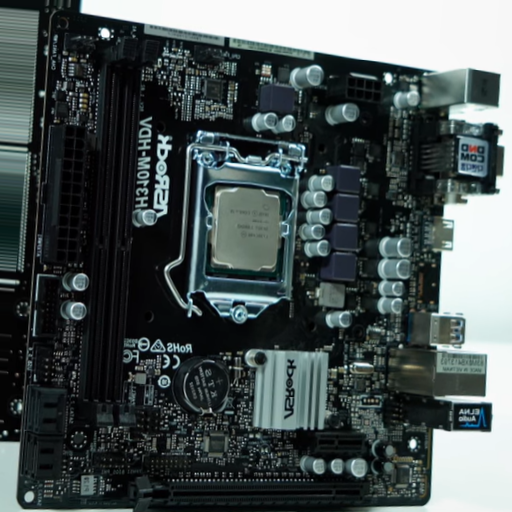CPU: (182, 140, 299, 310)
GPU: (127, 475, 367, 512)
MOTHERBOARD: (1, 6, 504, 512)
RAM: (88, 38, 156, 430)
